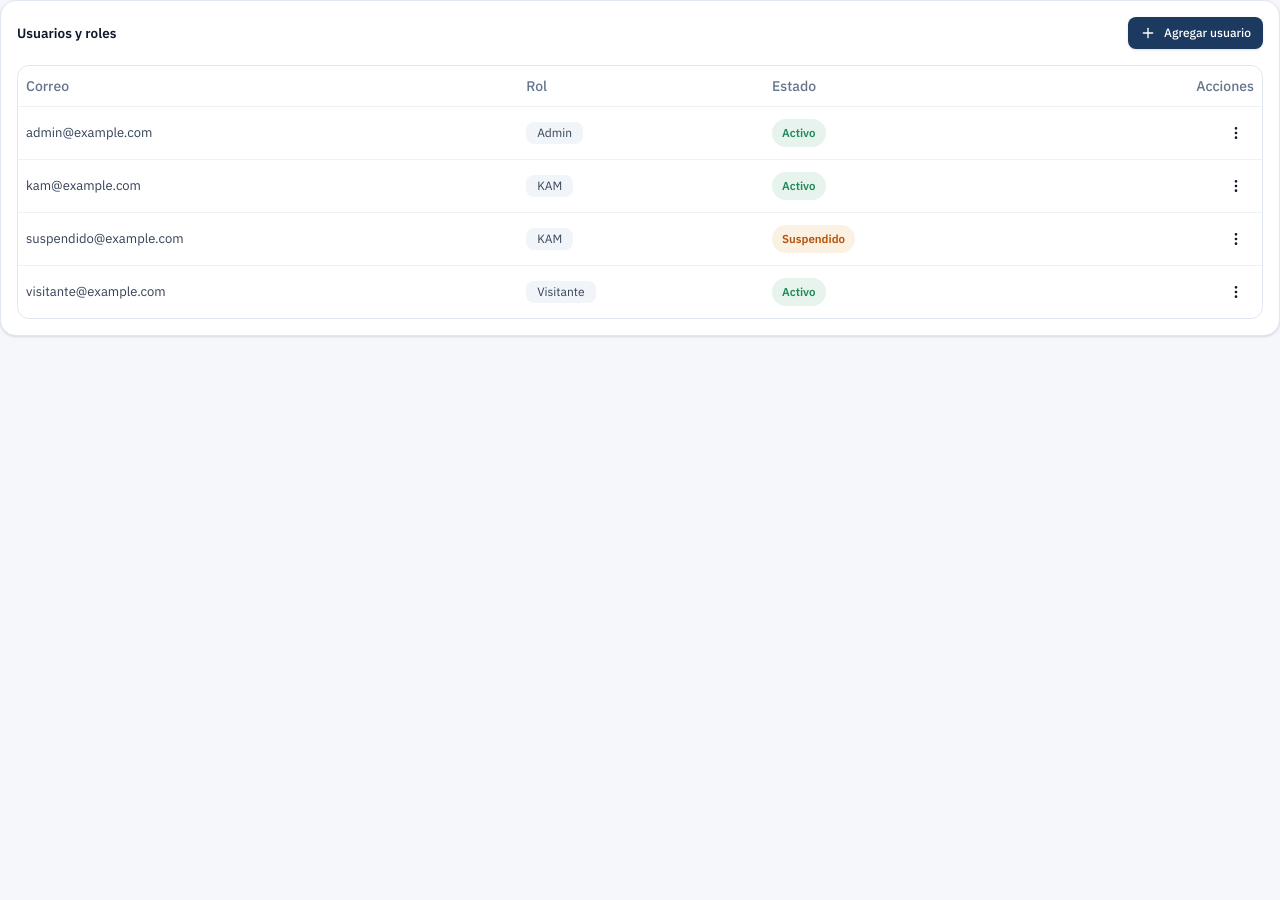
ConfigUsuarios › restablecer contraseña: requiere confirmar en AlertDialog antes de disparar el PATCH
Expected: the text "kam@example.com" is shown, [18, 159, 518, 212]
Press the mouse on the button named "Acciones para kam@example.com": (1236, 186) [1218, 168, 1254, 204]
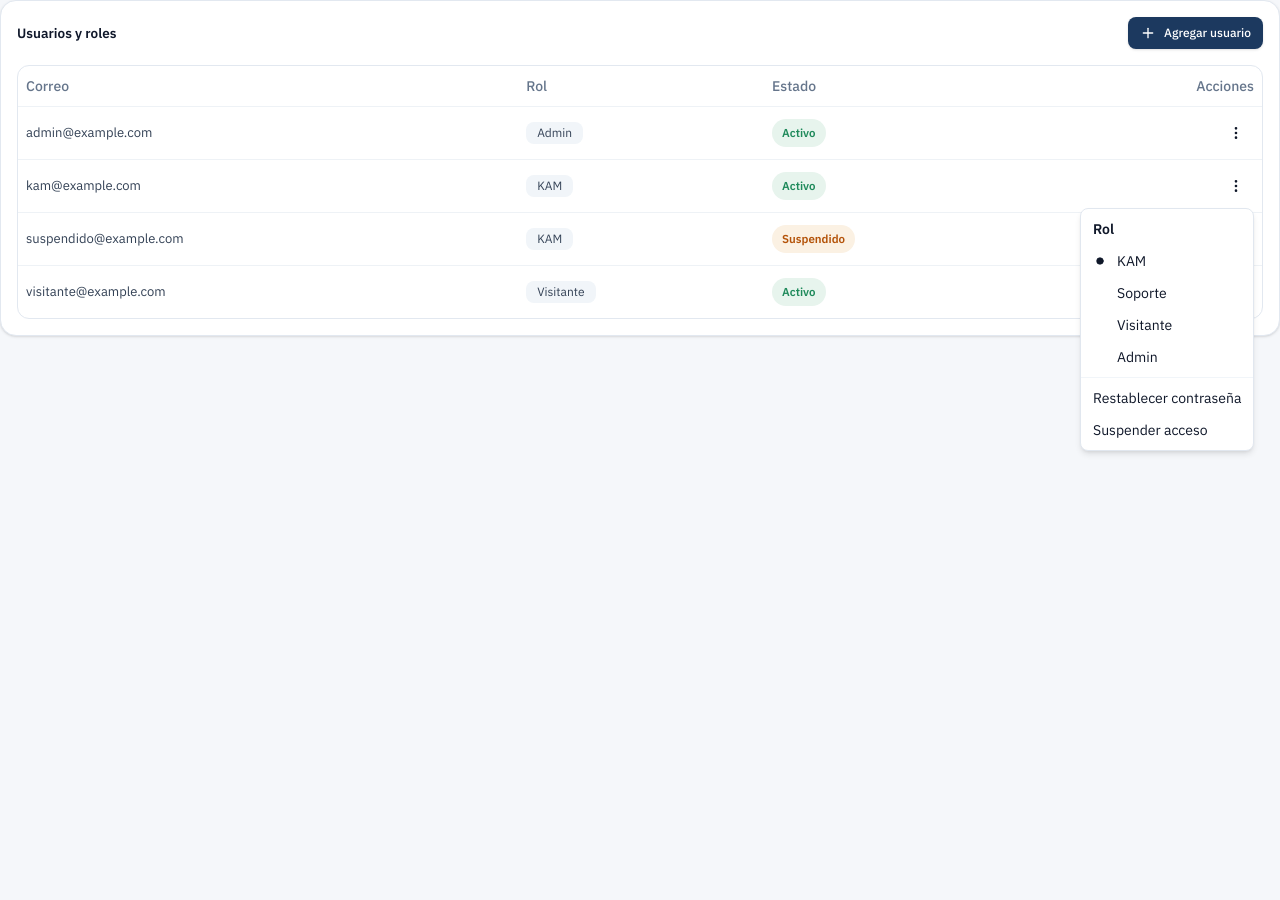
Click the menu item "Restablecer contraseña": (1167, 398) [1093, 389, 1241, 407]
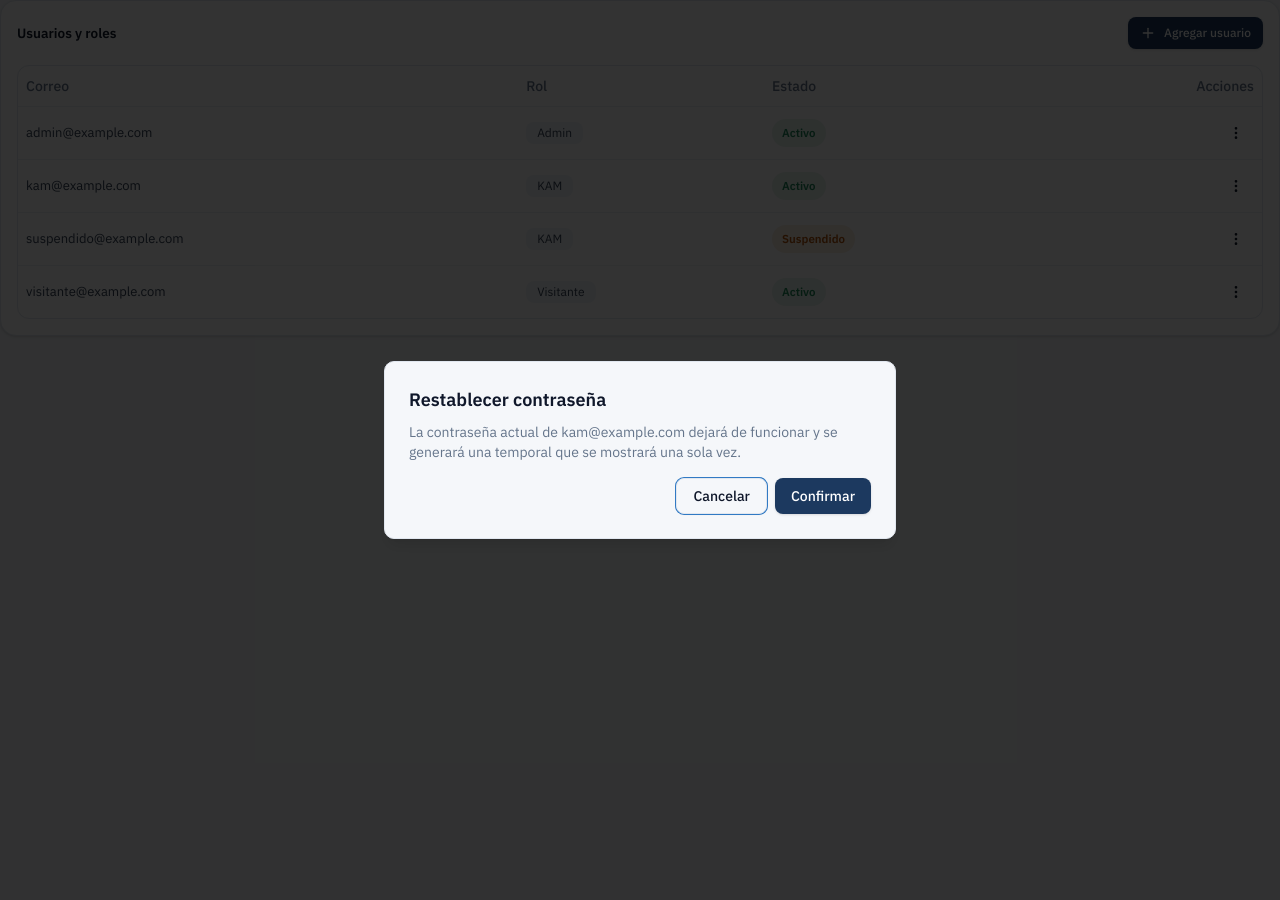
Expected: the text "kam@example.com" is shown, [561, 423, 685, 441]
Click the button "Confirmar": (823, 496) [775, 478, 871, 514]
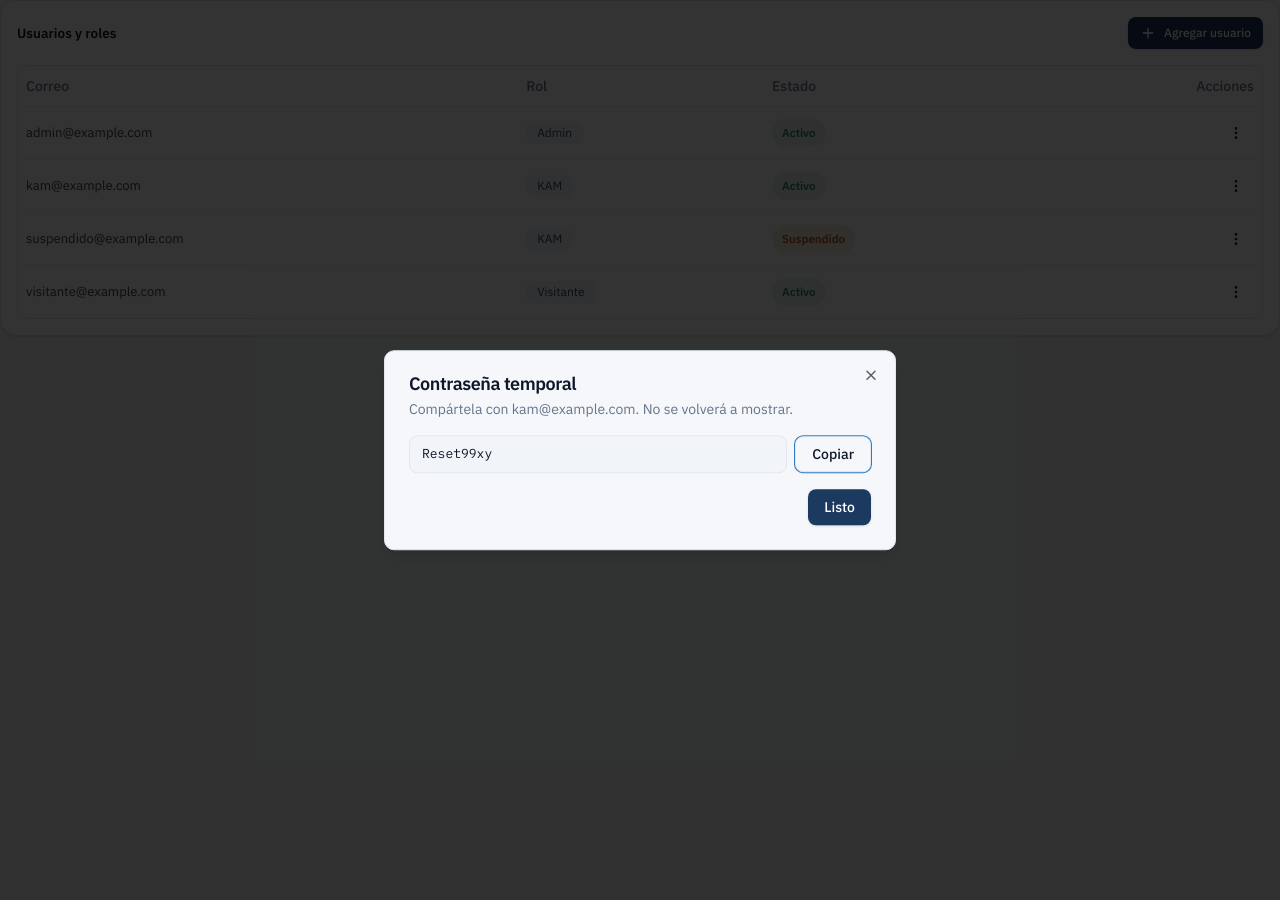
Expected: the text "Reset99xy" is shown, [409, 435, 787, 473]
